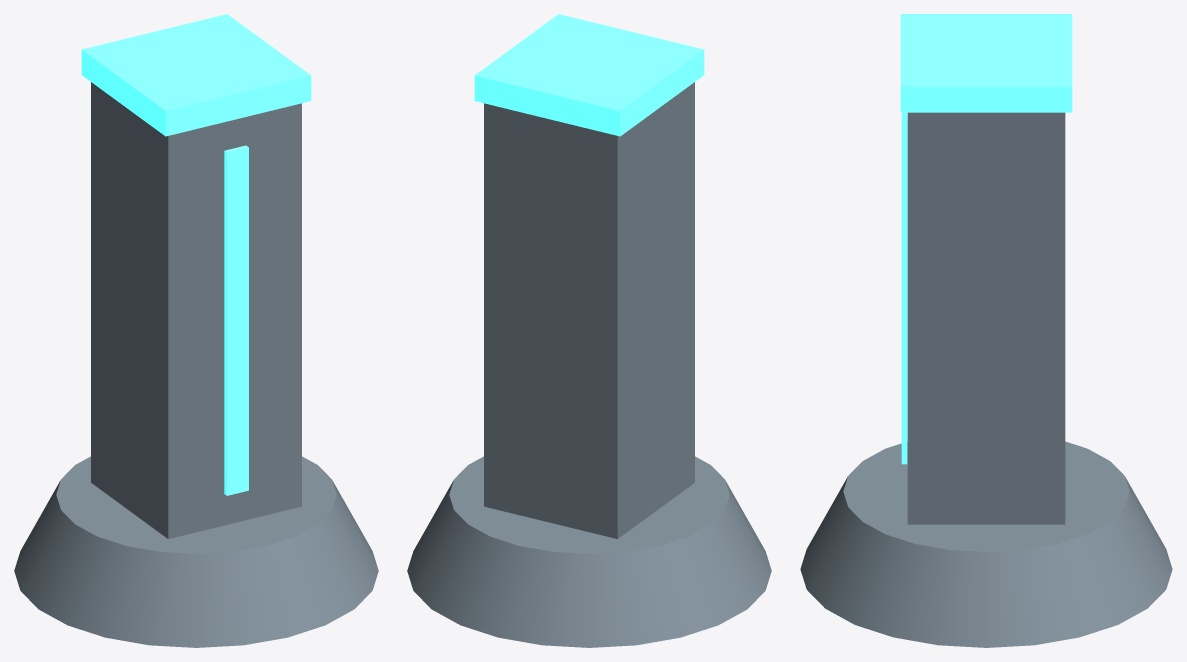
Rendered from SignalBeacon.glb.
3 renders of one model, left to right at view 1: azimuth 30°, elevation 25°; view 2: azimuth 150°, elevation 25°; view 3: azimuth 270°, elevation 25°, orthographic. The views are drawn at different scales.
Parts seen in each view (by area): view 1: Beacon Housing, Beacon Base, Top Signal, Front Signal; view 2: Beacon Housing, Beacon Base, Top Signal; view 3: Beacon Housing, Beacon Base, Top Signal, Front Signal.
Boxes of the visible parts, x1,y1,x2,y2 form: Beacon Housing: [91, 82, 301, 538]; Beacon Base: [14, 456, 378, 647]; Top Signal: [81, 14, 311, 136]; Front Signal: [224, 145, 248, 495]; Beacon Housing: [484, 82, 694, 538]; Beacon Base: [407, 456, 771, 647]; Top Signal: [474, 14, 704, 136]; Beacon Housing: [907, 112, 1065, 524]; Beacon Base: [800, 441, 1172, 647]; Top Signal: [900, 14, 1072, 112]; Front Signal: [901, 112, 907, 464].
Size of the model in its own units: 1.3 by 2 by 1.3.
